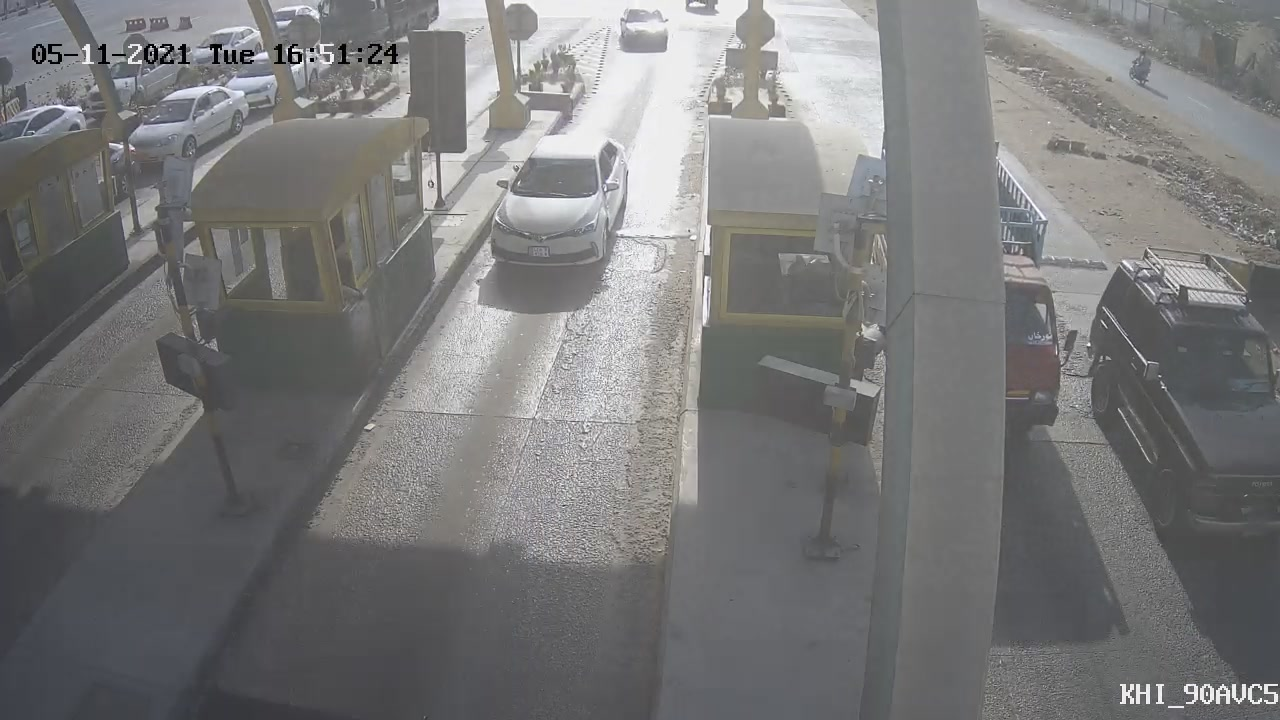F1: (466, 118, 647, 288)
